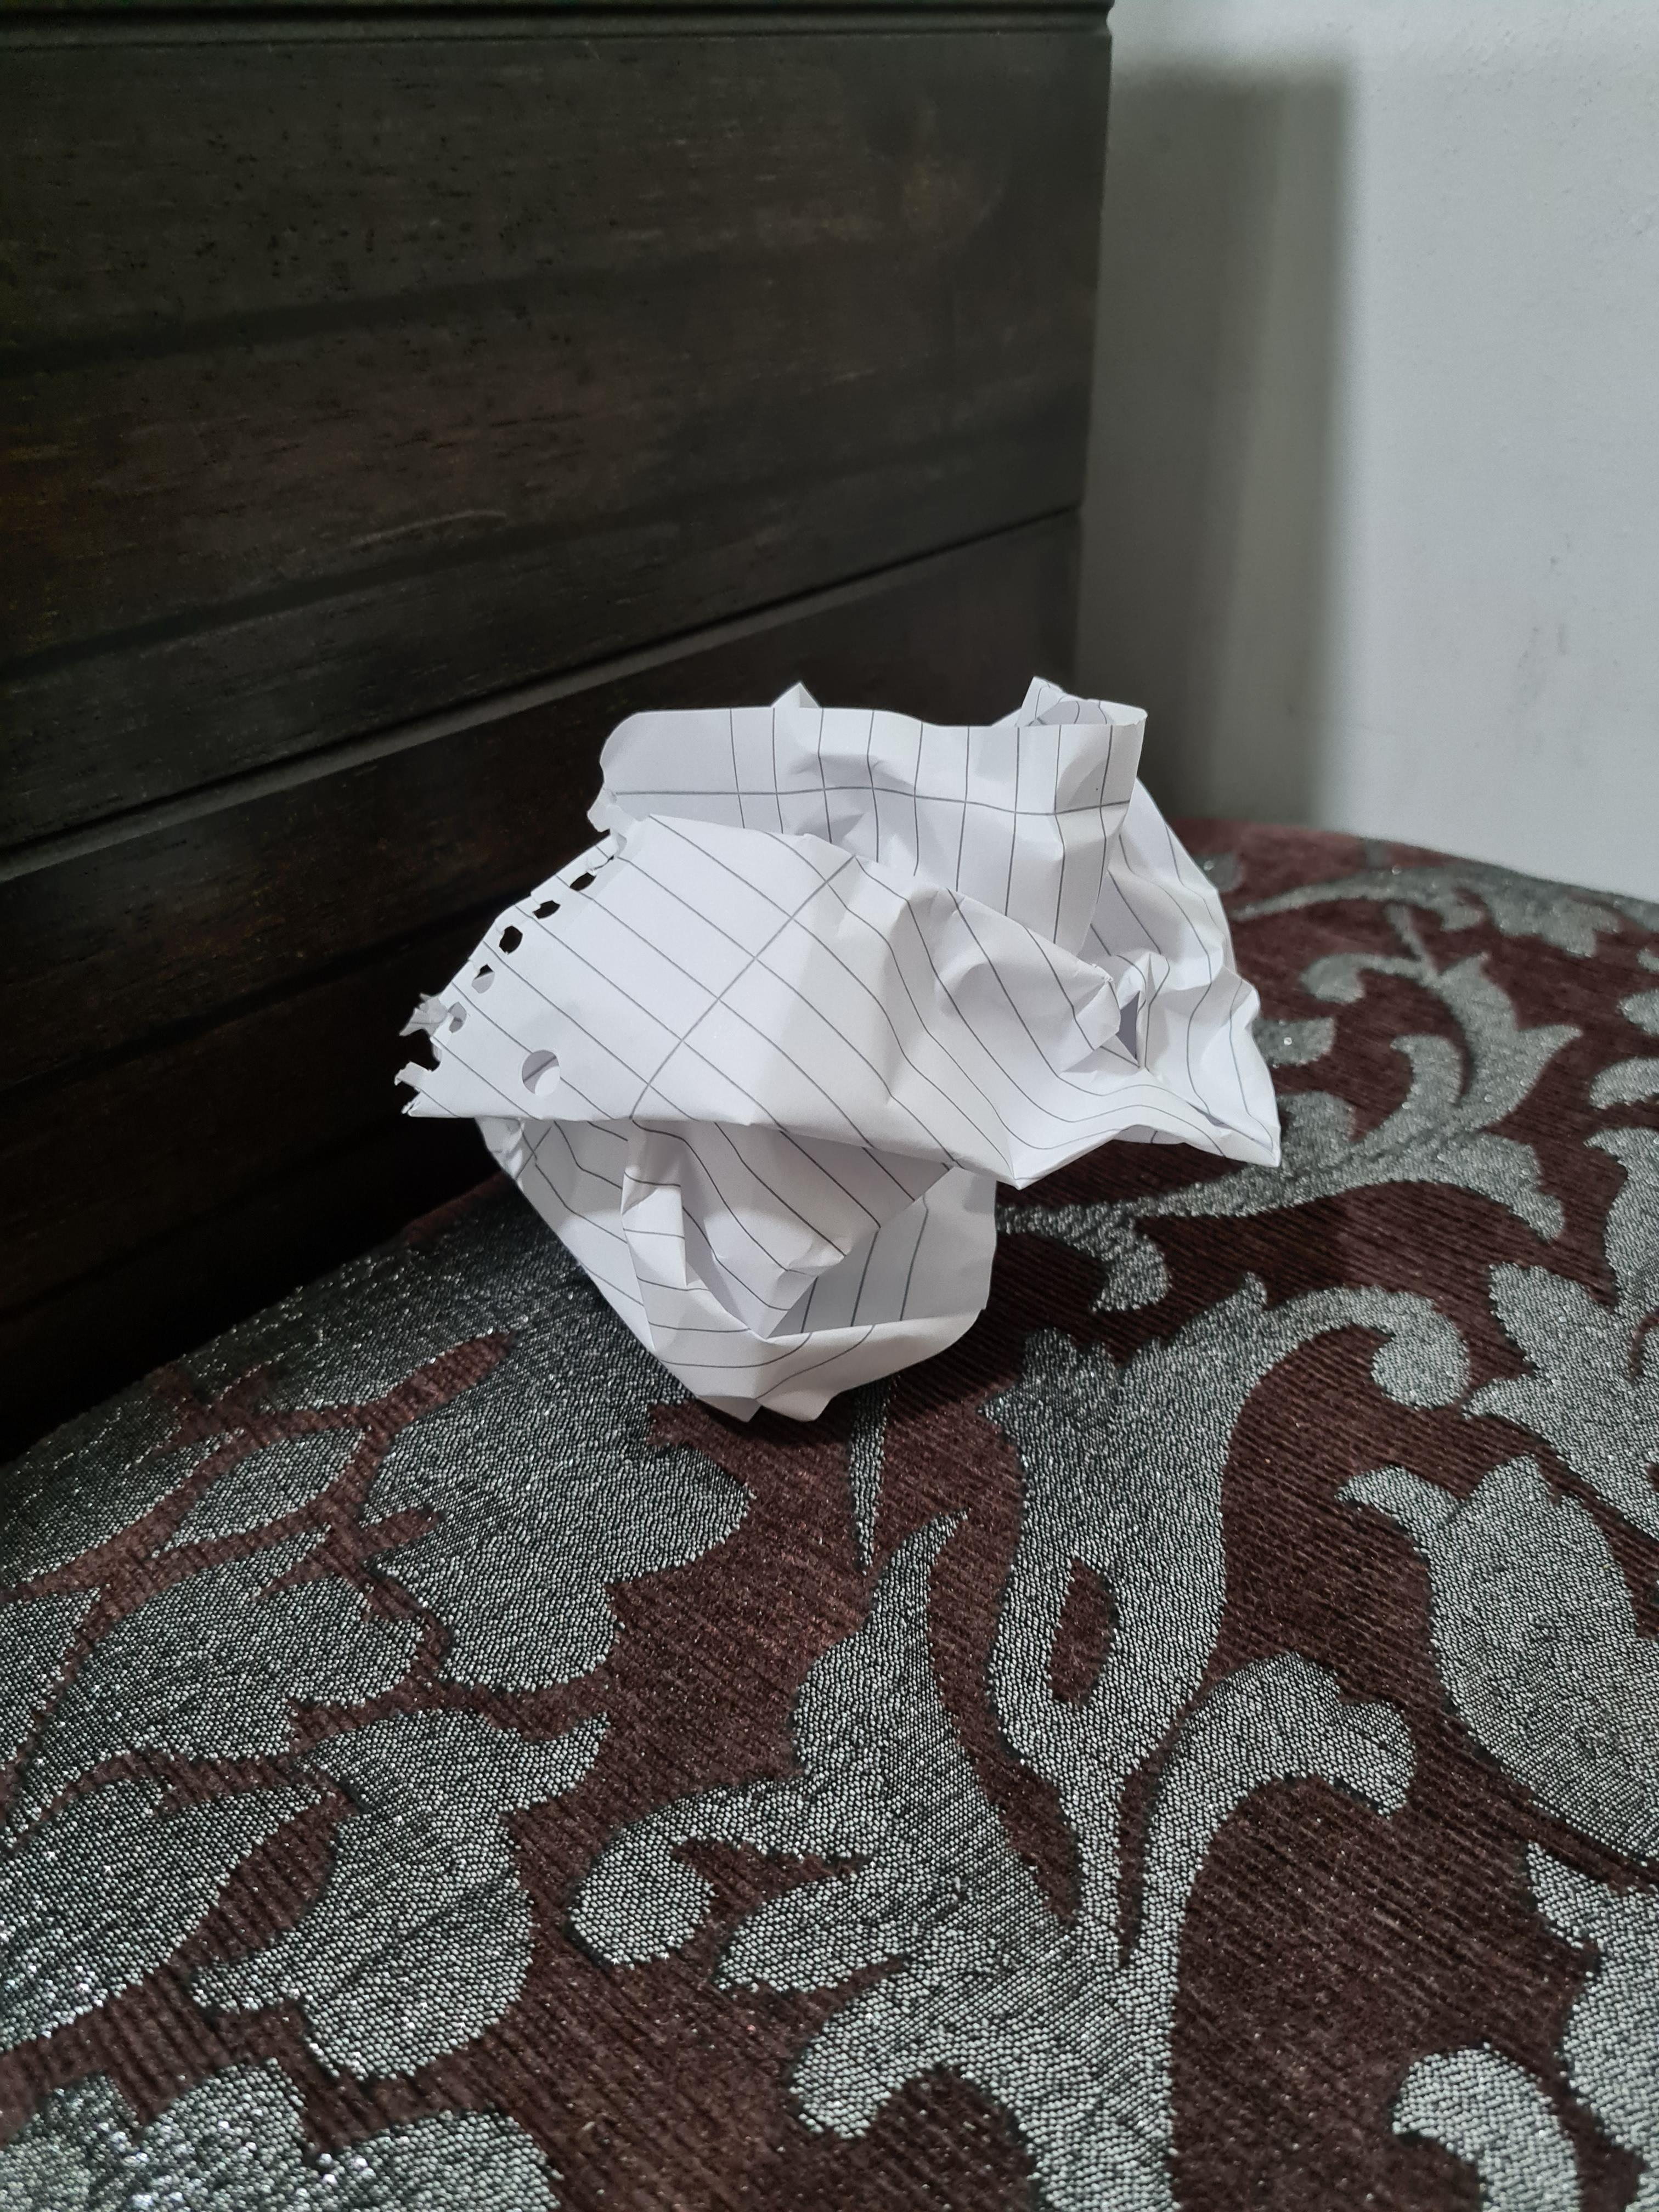Paper: (391, 681, 1286, 1428)
